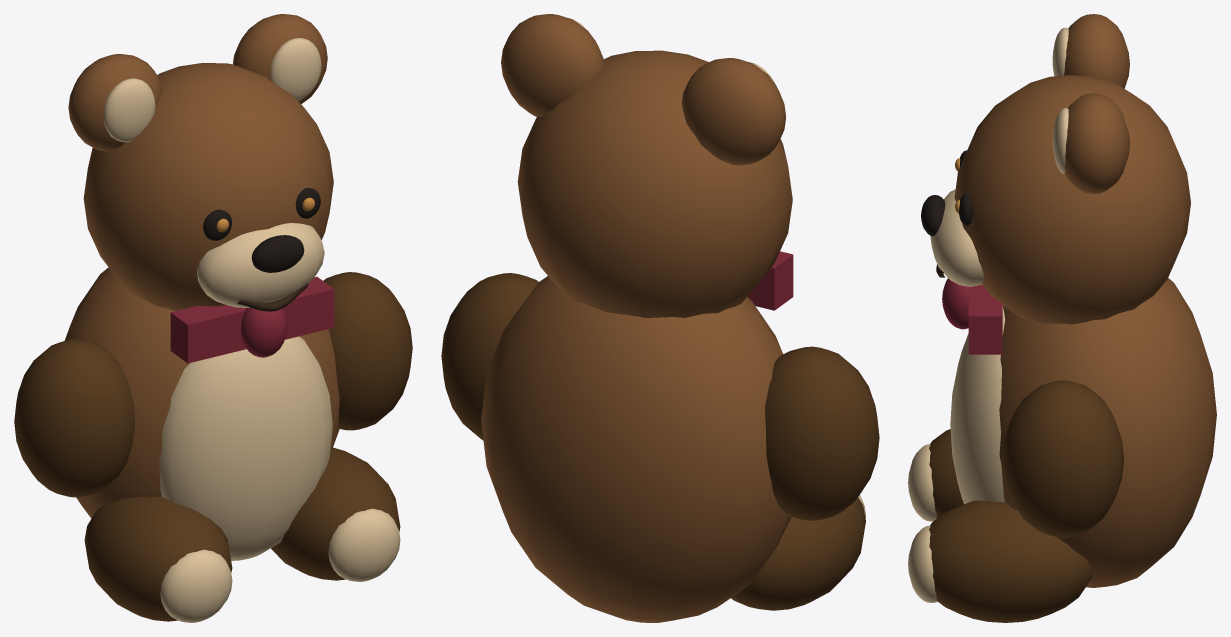
File: mia-teddy.glb
3 renders of one model, left to right at view 1: azimuth 30°, elevation 25°; view 2: azimuth 150°, elevation 25°; view 3: azimuth 270°, elevation 25°, orthographic. The views are drawn at different scales.
Visible parts, largest first — view 1: Body_oak, Body_ivory, Body_wood, Body_velvet, Body_black, Body_grain; view 2: Body_oak, Body_wood, Body_velvet; view 3: Body_oak, Body_wood, Body_ivory, Body_velvet, Body_black.
Part boxes in pixels (box(x1,y1,x2,y2)): Body_oak: box(64, 14, 339, 518); Body_ivory: box(103, 38, 400, 622); Body_wood: box(14, 272, 412, 621); Body_velvet: box(170, 276, 334, 363); Body_black: box(203, 188, 320, 272); Body_grain: box(237, 283, 308, 311); Body_oak: box(481, 14, 792, 622); Body_wood: box(441, 273, 879, 610); Body_velvet: box(747, 251, 793, 310); Body_oak: box(954, 14, 1216, 587); Body_wood: box(929, 380, 1123, 622); Body_ivory: box(908, 27, 1068, 602); Body_velvet: box(942, 278, 1002, 354); Body_black: box(921, 150, 972, 236).
Size of the model in its own units: 0.374 by 0.487 by 0.263.
